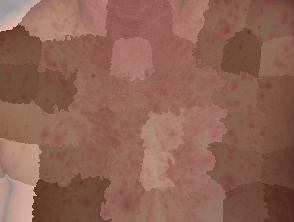SJS-TEN: (39, 0, 257, 222)
